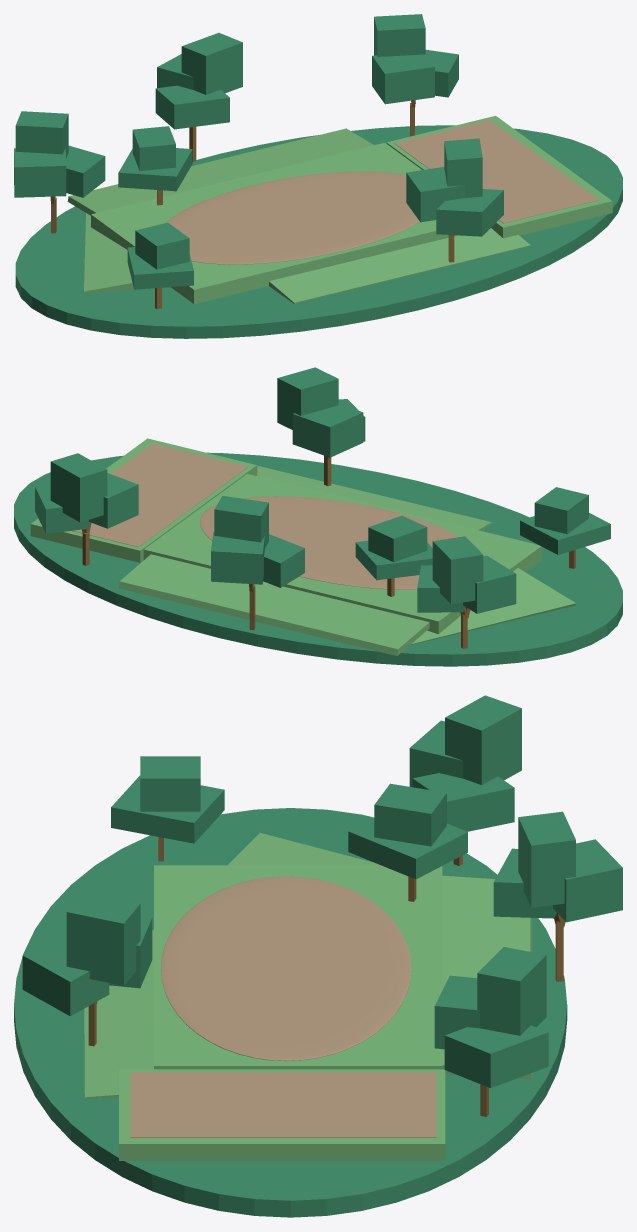
File: stisland.glb
The picture shows the model from 3 angles, top to bottom: view 1: azimuth 30°, elevation 25°; view 2: azimuth 150°, elevation 25°; view 3: azimuth 270°, elevation 25°; orthographic projection. The views are drawn at different scales.
Parts seen in each view (by area): view 1: Mesh_Mesh_head_geo.001_lambert2SG.001; view 2: Mesh_Mesh_head_geo.001_lambert2SG.001; view 3: Mesh_Mesh_head_geo.001_lambert2SG.001.
Part boxes in pixels (x1,y1,x2,y2): Mesh_Mesh_head_geo.001_lambert2SG.001: (14,14,622,338); Mesh_Mesh_head_geo.001_lambert2SG.001: (14,367,622,666); Mesh_Mesh_head_geo.001_lambert2SG.001: (14,695,622,1217).
Bounding box in the file's own units: 319 × 69 × 209.
